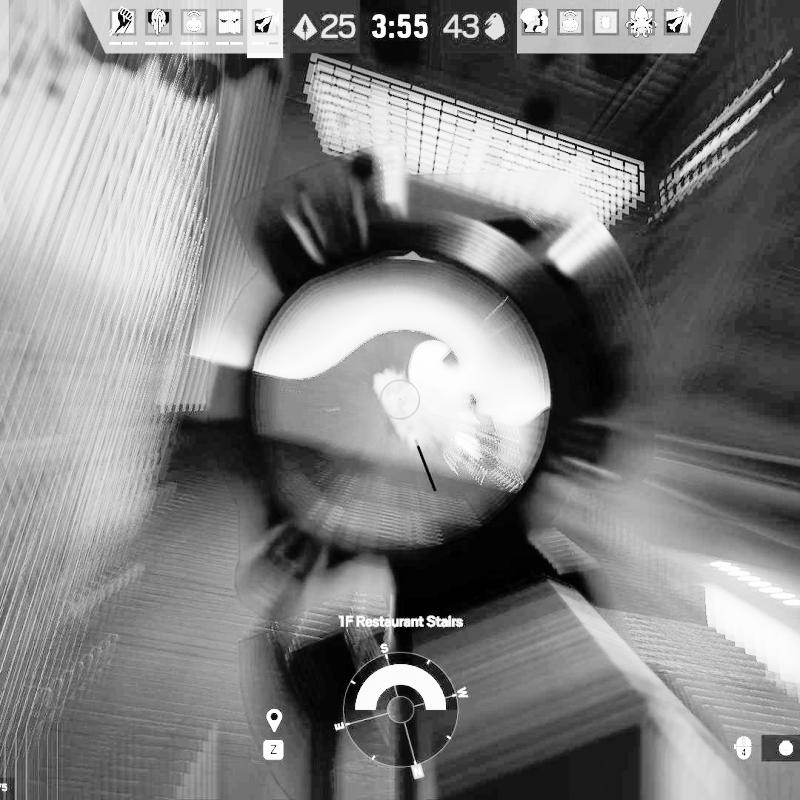Character: (443, 392, 520, 488)
Head: (459, 393, 482, 419)
